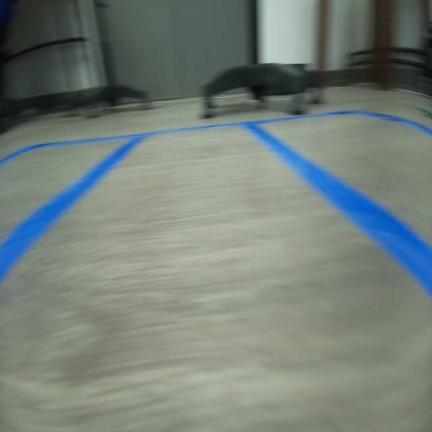place: (0, 120, 431, 431), (244, 108, 431, 299), (0, 132, 148, 284)
